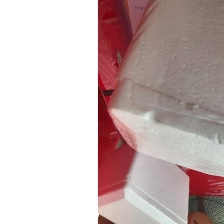foam_box: (104, 0, 224, 182), (98, 140, 194, 224)
